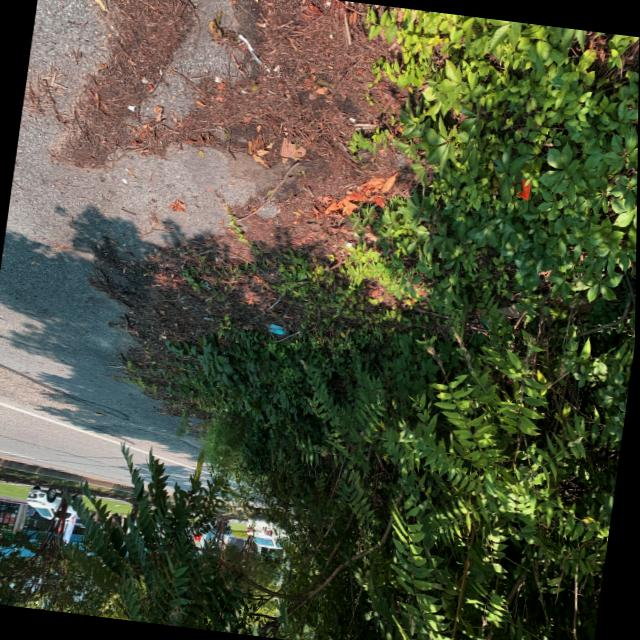Plastic: (267, 322, 292, 338)
